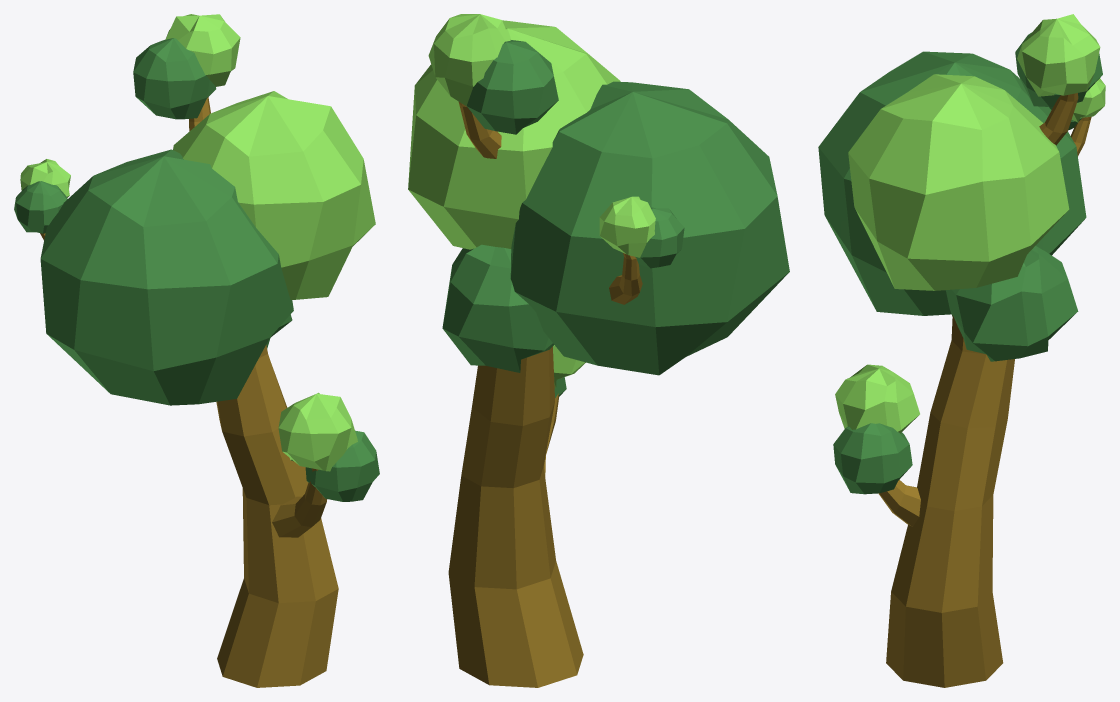
The model's file is tree_3.gltf.
The picture shows the model from 3 angles, left to right: view 1: azimuth 30°, elevation 25°; view 2: azimuth 150°, elevation 25°; view 3: azimuth 270°, elevation 25°; orthographic projection. The views are drawn at different scales.
Parts seen in each view (by area): view 1: Circle_Material.002_0, Circle_Material.003_0, Circle_Material.004_0; view 2: Circle_Material.002_0, Circle_Material.004_0, Circle_Material.003_0; view 3: Circle_Material.003_0, Circle_Material.004_0, Circle_Material.002_0.
Part boxes in pixels (x1,y1,x2,y2): Circle_Material.002_0: (14, 38, 379, 501); Circle_Material.003_0: (20, 14, 375, 471); Circle_Material.004_0: (40, 97, 338, 687); Circle_Material.002_0: (442, 40, 789, 397); Circle_Material.004_0: (448, 102, 642, 687); Circle_Material.003_0: (408, 14, 655, 388); Circle_Material.003_0: (835, 14, 1105, 433); Circle_Material.004_0: (878, 93, 1091, 687); Circle_Material.002_0: (818, 32, 1102, 494).
Size of the model in its own units: 185 by 359 by 147.
